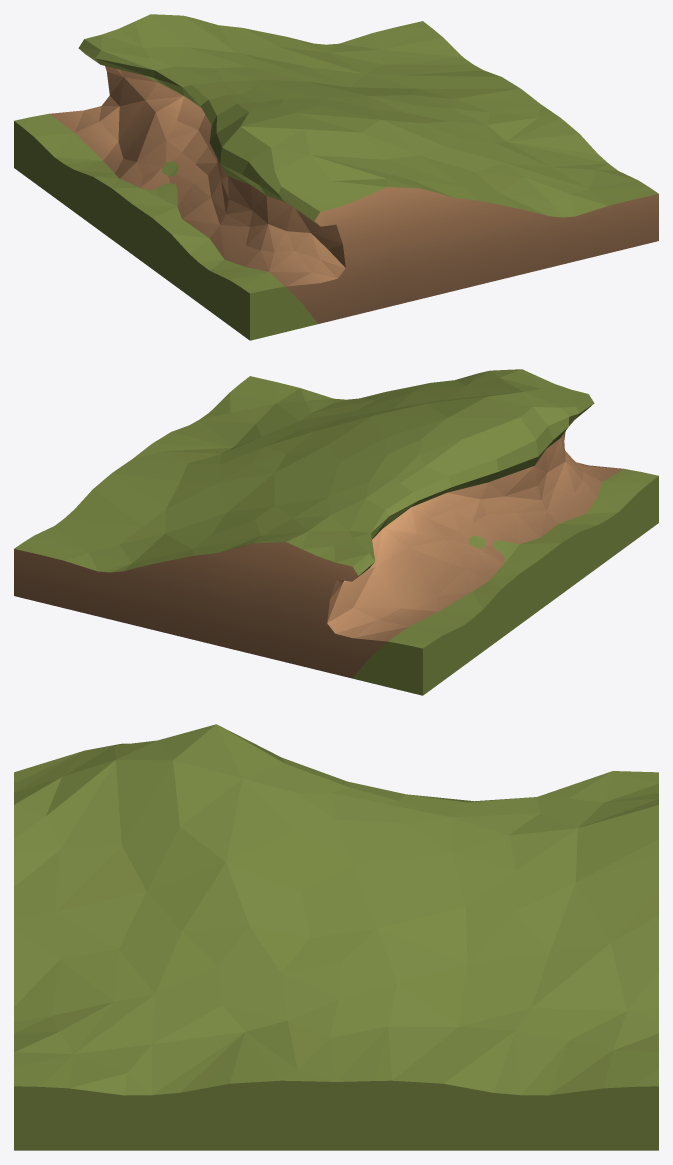
Rendered from Terrian_CliffGrass_Hill_Straight-03.fbx.
3 views of the same model, one above another, from view 1: azimuth 30°, elevation 25°; view 2: azimuth 150°, elevation 25°; view 3: azimuth 270°, elevation 25° (orthographic). The views are drawn at different scales.
Visible parts, largest first — view 1: Terrian_CliffGrass_Hill_Straight-03; view 2: Terrian_CliffGrass_Hill_Straight-03; view 3: Terrian_CliffGrass_Hill_Straight-03.
Part boxes in pixels (x1=…): Terrian_CliffGrass_Hill_Straight-03: x1=14, y1=14, x2=658, y2=340; Terrian_CliffGrass_Hill_Straight-03: x1=14, y1=369, x2=658, y2=695; Terrian_CliffGrass_Hill_Straight-03: x1=14, y1=724, x2=658, y2=1150.
Bounding box in the file's own units: 3600 × 1213 × 3600.
Materials: 1 (1 with a texture image).
